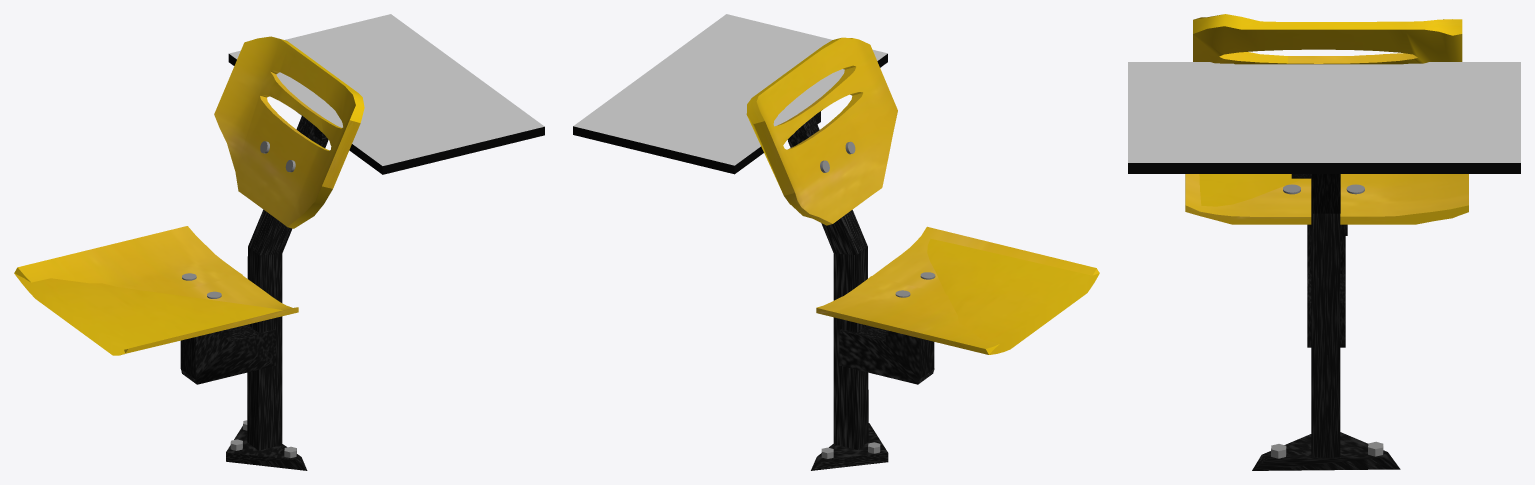
The model's file is chaiseMilieu.fbx.
3 views of the same model, side by side, from view 1: azimuth 30°, elevation 25°; view 2: azimuth 150°, elevation 25°; view 3: azimuth 270°, elevation 25° (orthographic). The views are drawn at different scales.
Visible parts, largest first — view 1: polySurface1119, polySurface1136, polySurface1116.001, polySurface1132.001; view 2: polySurface1119, polySurface1136, polySurface1116.001, polySurface1132.001; view 3: polySurface1119, polySurface1132.001, polySurface1136, polySurface1116.001.
Part boxes in pixels (left/top/right/bottom): polySurface1119: left=228, top=14, right=544, bottom=174; polySurface1136: left=14, top=226, right=298, bottom=355; polySurface1116.001: left=214, top=36, right=364, bottom=228; polySurface1132.001: left=180, top=116, right=328, bottom=470; polySurface1119: left=573, top=14, right=887, bottom=174; polySurface1136: left=816, top=226, right=1099, bottom=354; polySurface1116.001: left=746, top=37, right=897, bottom=225; polySurface1132.001: left=787, top=111, right=934, bottom=470; polySurface1119: left=1128, top=62, right=1520, bottom=173; polySurface1132.001: left=1252, top=174, right=1400, bottom=470; polySurface1136: left=1185, top=174, right=1468, bottom=235; polySurface1116.001: left=1193, top=14, right=1462, bottom=64.
Bounding box in the file's own units: 0.8529 × 0.7702 × 0.5725.
